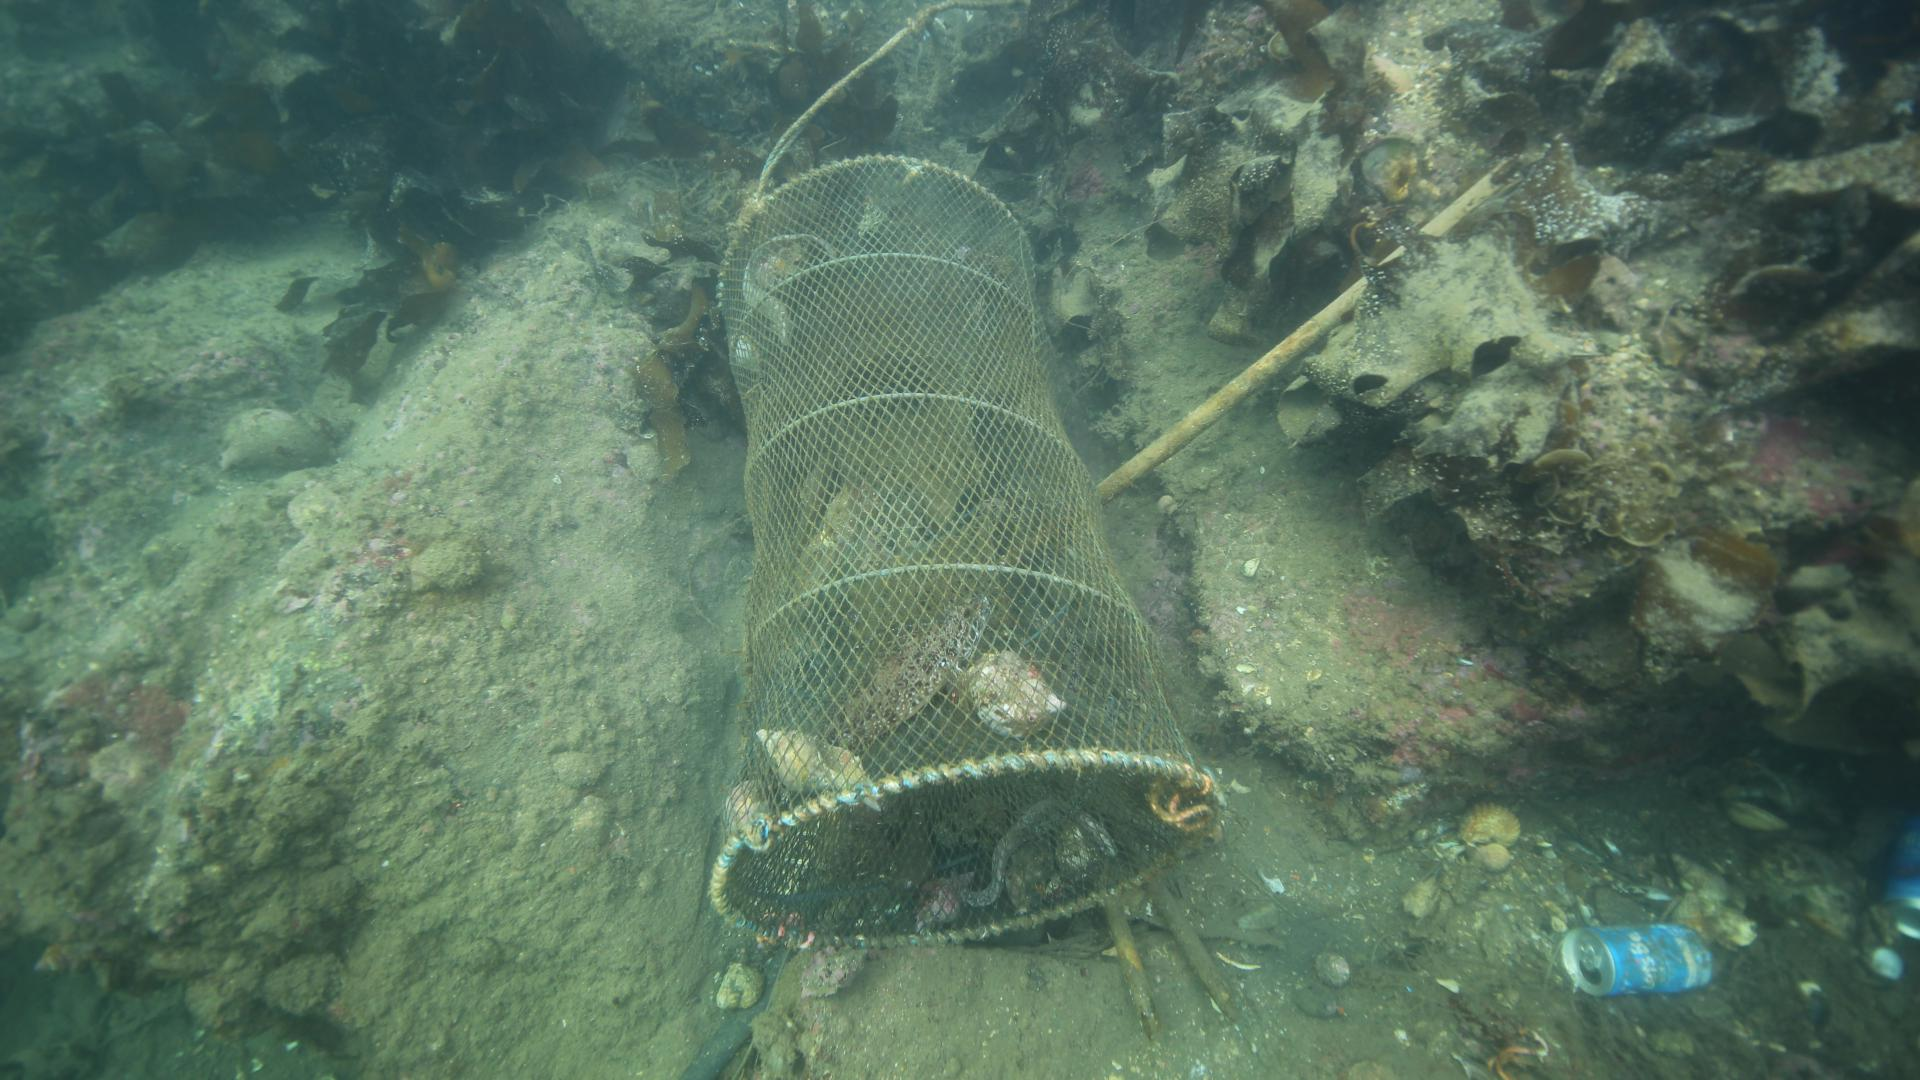bundle of ropes: (752, 0, 1018, 198)
spring fish trap: (694, 157, 1228, 951)
